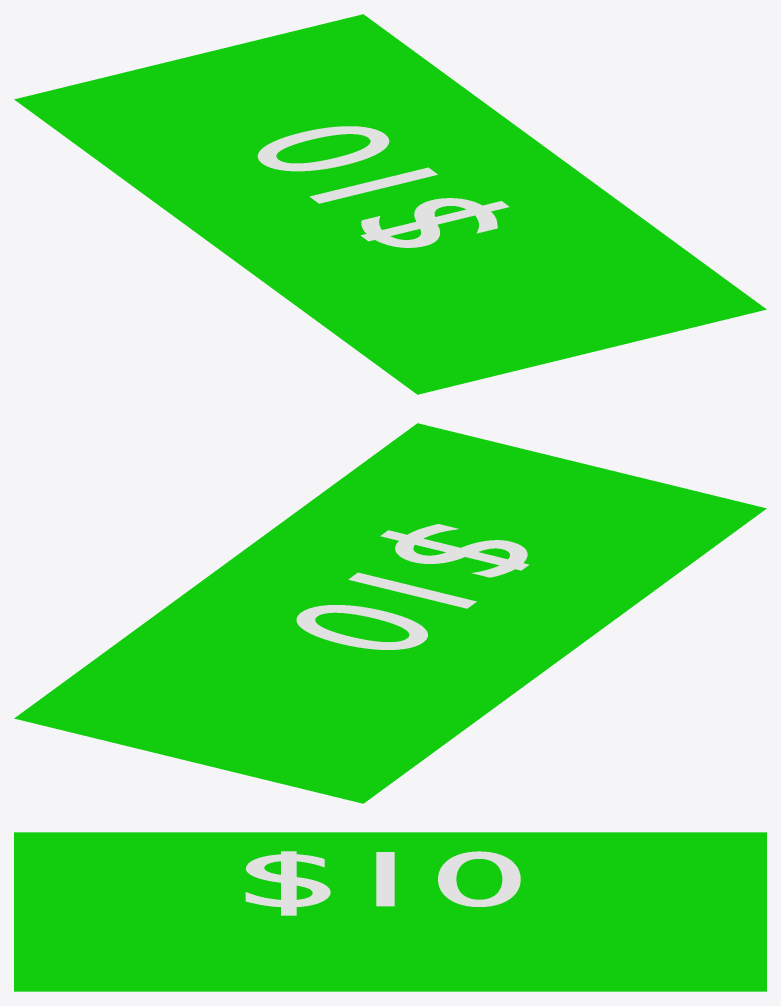
The model's file is Ten-Dollar Bill.fbx.
3 views of the same model, one above another, from view 1: azimuth 30°, elevation 25°; view 2: azimuth 150°, elevation 25°; view 3: azimuth 270°, elevation 25° (orthographic). The views are drawn at different scales.
Parts seen in each view (by area): view 1: Plane, Text; view 2: Plane, Text; view 3: Plane, Text.
Boxes of the visible parts, box(x1,y1,x2,y2) form: Plane: box(14, 14, 766, 394); Text: box(257, 126, 509, 247); Plane: box(14, 423, 766, 803); Text: box(296, 524, 528, 649); Plane: box(14, 832, 766, 991); Text: box(245, 851, 520, 915).
Bounding box in the file's own units: 2 × 0.14 × 4.
